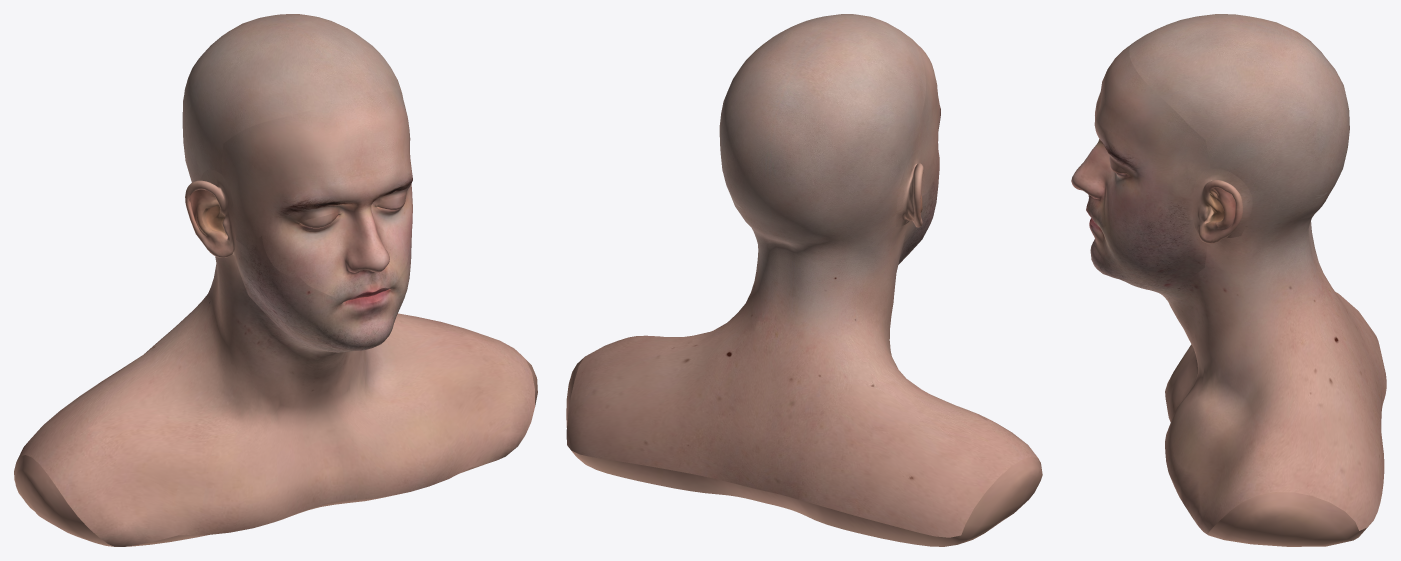
Rendered from leeperrysmith.obj.
The picture shows the model from 3 angles, left to right: view 1: azimuth 30°, elevation 25°; view 2: azimuth 150°, elevation 25°; view 3: azimuth 270°, elevation 25°; orthographic projection. The views are drawn at different scales.
Visible parts, largest first — view 1: Group2, Group19, Group14, Group4, Group5, Group7, Group35; view 2: Group2, Group4, Group19, Group5, Group14; view 3: Group2, Group19, Group14, Group4, Group5, Group7.
Boxes of the visible parts, bbox=[...] form: Group2: bbox=[17, 14, 534, 546]; Group19: bbox=[221, 90, 412, 301]; Group14: bbox=[234, 236, 411, 352]; Group4: bbox=[14, 354, 537, 546]; Group5: bbox=[185, 169, 236, 257]; Group7: bbox=[189, 189, 218, 236]; Group35: bbox=[298, 194, 406, 228]; Group2: bbox=[566, 14, 1037, 537]; Group4: bbox=[566, 357, 1042, 546]; Group19: bbox=[908, 36, 940, 196]; Group5: bbox=[895, 149, 923, 227]; Group14: bbox=[898, 165, 938, 264]; Group2: bbox=[1129, 14, 1386, 535]; Group19: bbox=[1071, 44, 1210, 228]; Group14: bbox=[1089, 201, 1207, 291]; Group4: bbox=[1208, 492, 1368, 546]; Group5: bbox=[1192, 168, 1252, 243]; Group7: bbox=[1210, 187, 1235, 230].
Size of the model in its own units: 0.4533 by 0.421 by 0.2746.
